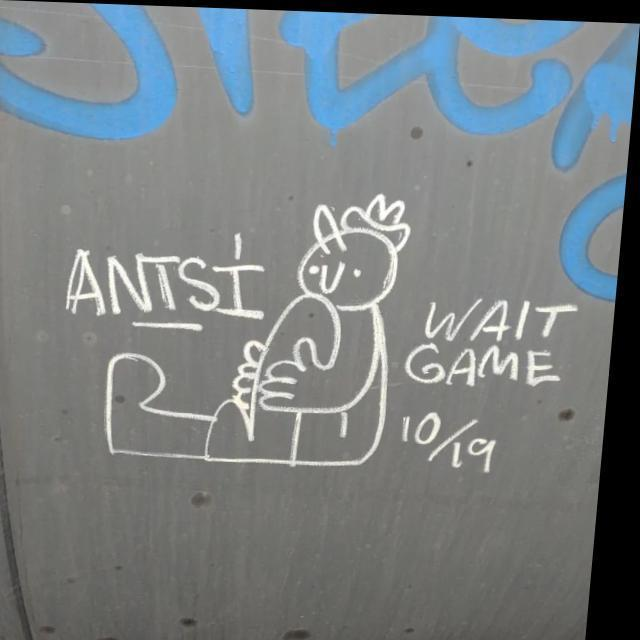-: (9, 146, 600, 516), (0, 1, 640, 190)
